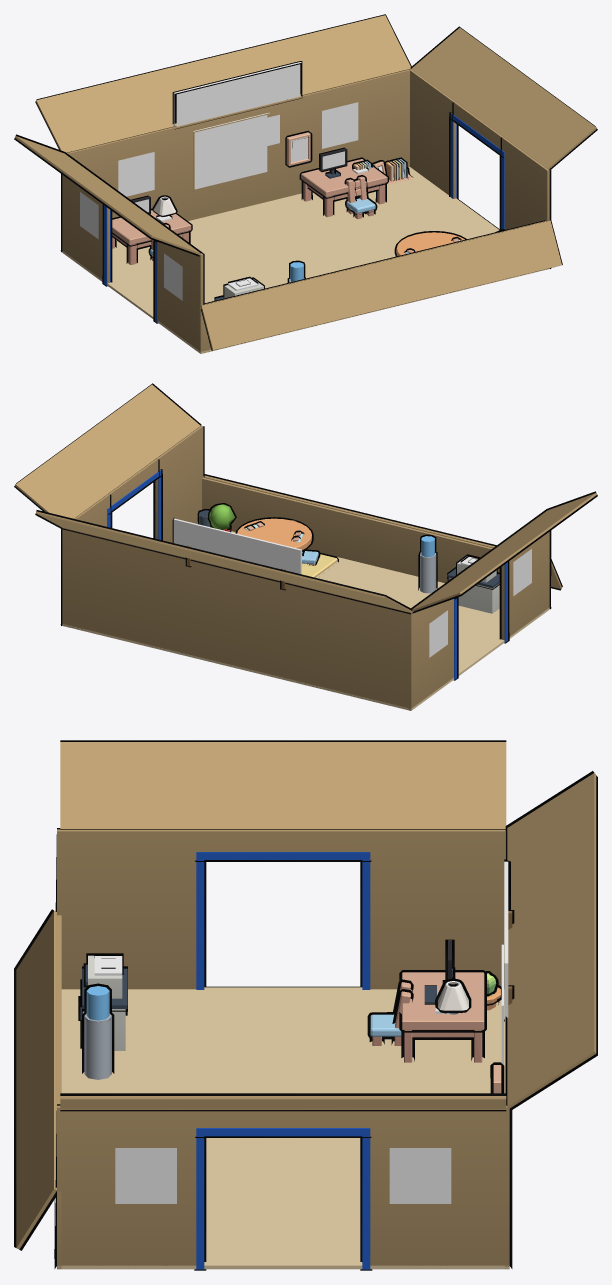
The model's file is BR_Box_Buero.glb.
The picture shows the model from 3 angles, top to bottom: view 1: azimuth 30°, elevation 25°; view 2: azimuth 150°, elevation 25°; view 3: azimuth 270°, elevation 25°; orthographic projection. The views are drawn at different scales.
Visible parts, largest first — view 1: BR_Box_Buero_Mesh, BR_Box_Buero_Outline; view 2: BR_Box_Buero_Mesh, BR_Box_Buero_Outline; view 3: BR_Box_Buero_Mesh, BR_Box_Buero_Outline.
Boxes of the visible parts, x1,y1,x2,y2 form: BR_Box_Buero_Mesh: (15,15,596,353); BR_Box_Buero_Outline: (14,14,597,350); BR_Box_Buero_Mesh: (15,384,596,710); BR_Box_Buero_Outline: (14,383,597,680); BR_Box_Buero_Mesh: (16,742,596,1269); BR_Box_Buero_Outline: (14,740,597,1270).
Size of the model in its own units: 12.31 by 3.66 by 8.52.
